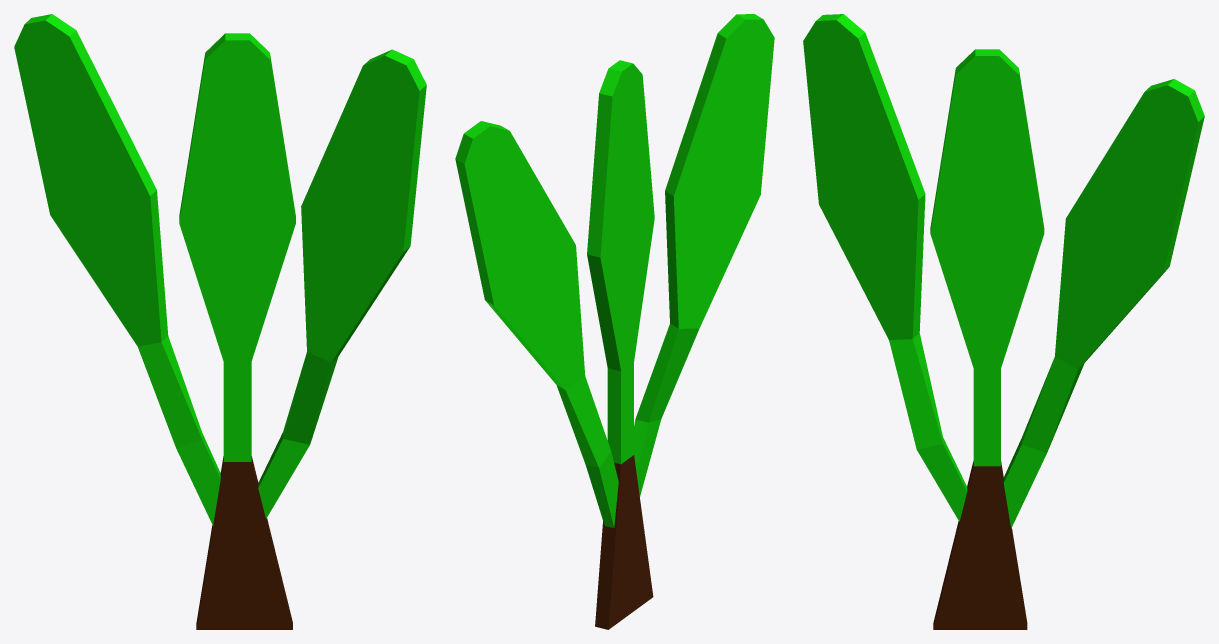
Rendered from foodleaf.glb.
3 views of the same model, side by side, from view 1: azimuth 90°, elevation 25°; view 2: azimuth 150°, elevation 25°; view 3: azimuth 270°, elevation 25° (orthographic). The views are drawn at different scales.
Visible parts, largest first — view 1: Cube; view 2: Cube; view 3: Cube.
Part boxes in pixels (<box>): Cube: <box>14,14,426,629</box>; Cube: <box>455,14,774,629</box>; Cube: <box>803,14,1204,629</box>.
Size of the model in its own units: 0.4395 by 1.75 by 1.09.
